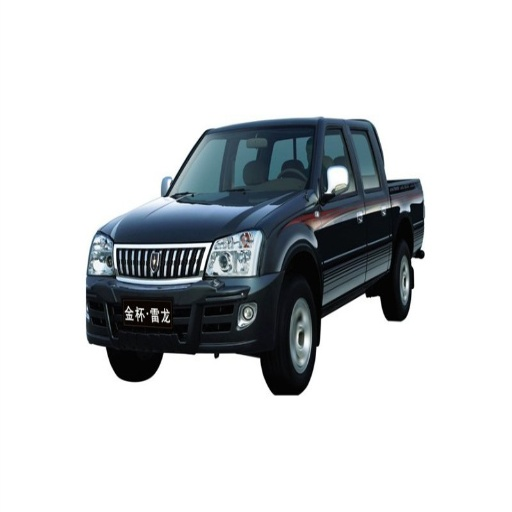front_bumper: (84, 241, 280, 354)
front_glass: (166, 122, 314, 202)
front_left_door: (316, 124, 366, 294)
